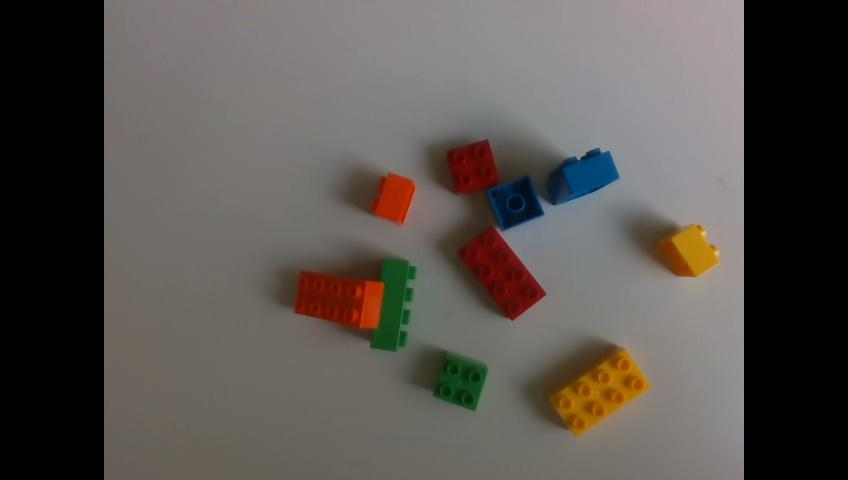2x2_blue: (488, 174, 544, 232)
2x2_green: (436, 353, 487, 410)
2x2_orange: (374, 171, 415, 224)
2x2_red: (447, 138, 500, 192)
2x2_yellow: (657, 224, 719, 275)
4x2_blue: (549, 147, 619, 204)
4x2_green: (372, 258, 416, 350)
4x2_orange: (297, 270, 383, 327)
4x2_red: (460, 225, 547, 320)
4x2_yellow: (548, 345, 651, 435)
